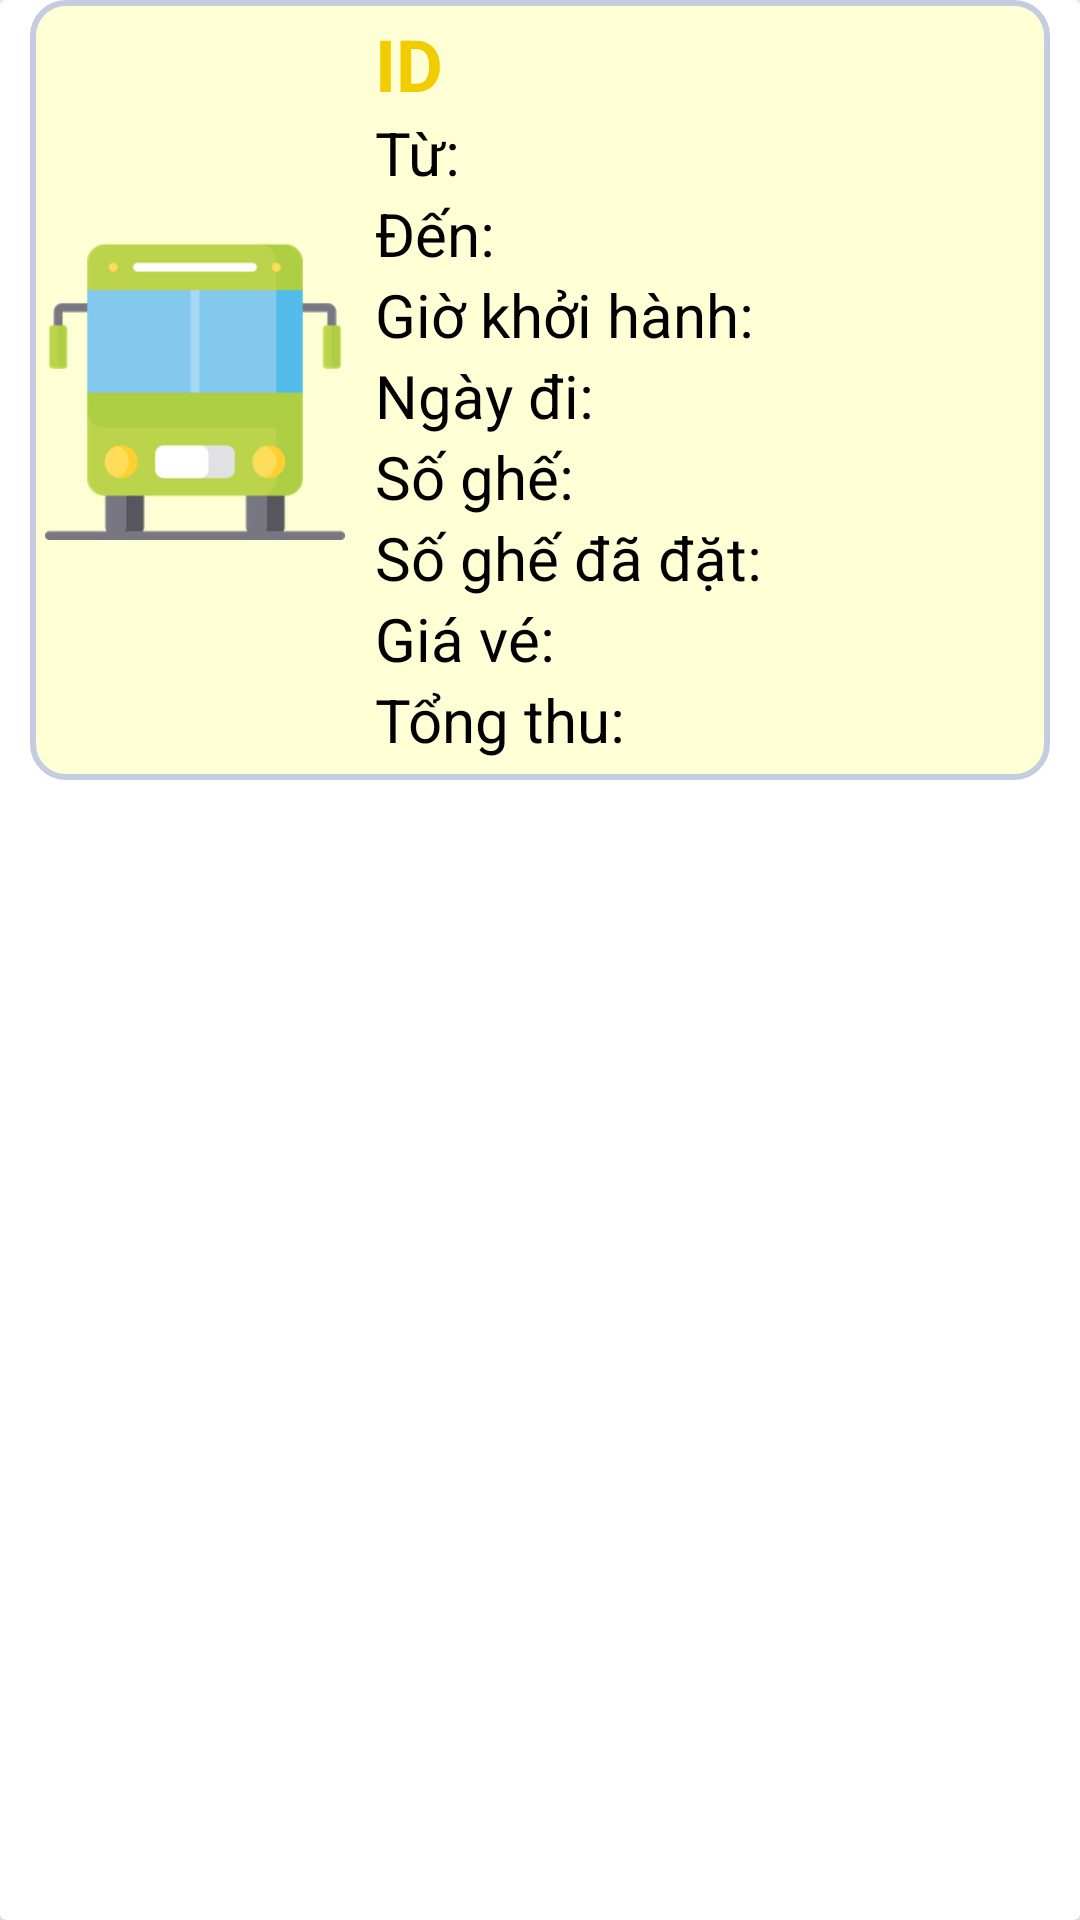

Icons on this 1080 x 1920 Android screen, each with the point to tap as [x,y]:
list bus: [195,392]
